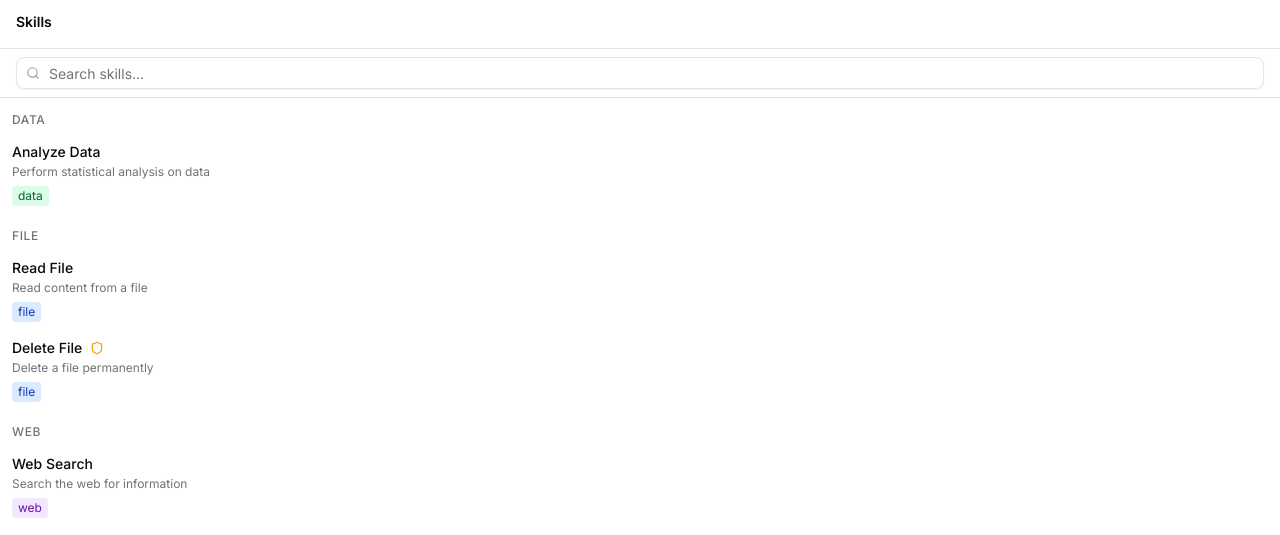
it: SkillsPanel Component › Test 4: Filters skills by search query › should filter skills by tags
The image size is (1280, 535).
Expected: the text "Read File" is shown, [12,258,73,278]
Type "search" into the field with placeholder "Search skills..." at (640, 73), box [16,57,1264,89]
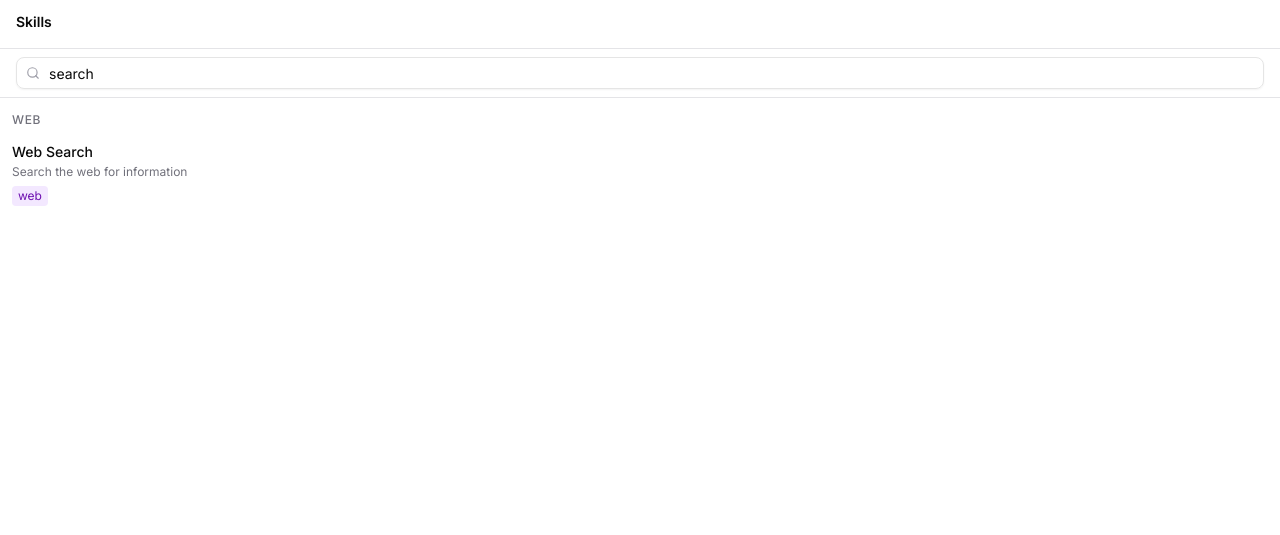
Expected: the text "Web Search" is shown, [12,142,93,162]
Expected: the text "Read File" is gone
